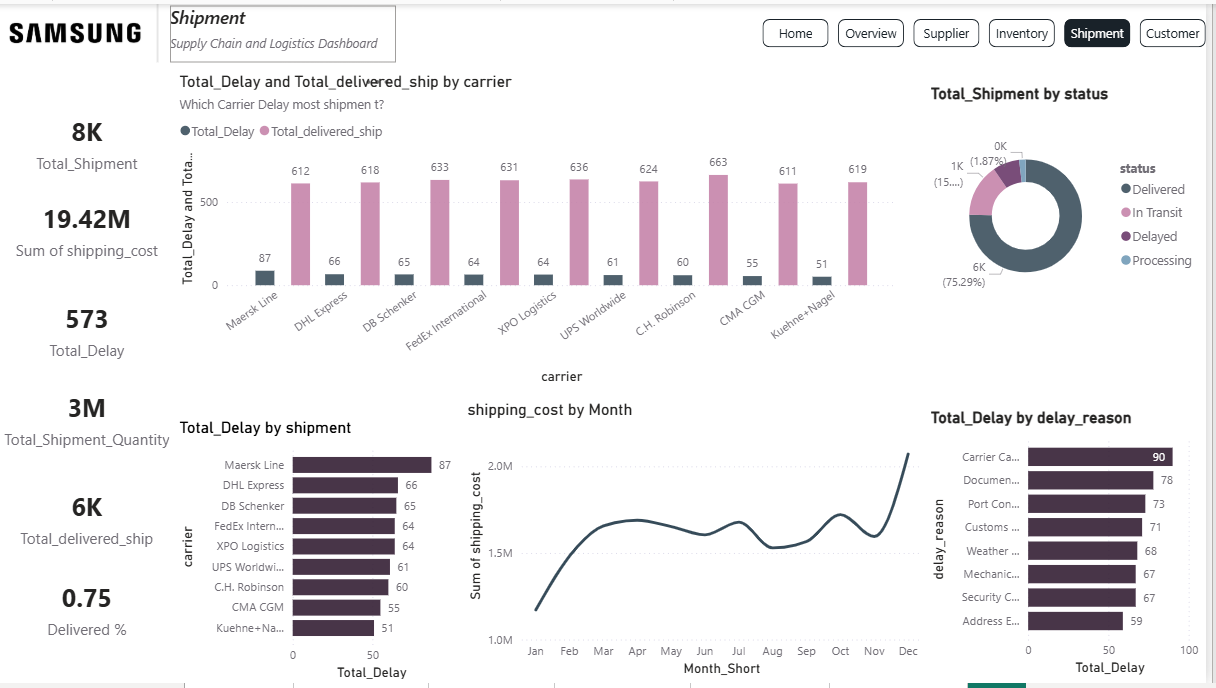

The page's visual inventory and layout, read from the dashboard file:
{"tool":"powerbi","page":{"name":"Shipment","canvas":[1280,720],"ordinal":4},"visuals":[{"type":"shape","title":"Shipment","box":[181.6,2.1,240,60.5],"z":0},{"type":"shape","box":[154.6,0,27.7,61.8],"z":1000},{"type":"image","box":[0,0,154.6,60.2],"z":2000},{"type":"card","fields":{"Values":["MeasuresTable.Total_Shipment"]},"box":[0,106.4,185.7,79.3],"z":3000},{"type":"card","fields":{"Values":["MeasuresTable.Total_Delay"]},"box":[0,304.7,185.7,79.3],"z":4000},{"type":"card","fields":{"Values":["MeasuresTable.Total_Shipment_Quantity"]},"box":[0,398.6,185.7,79.3],"z":5000},{"type":"card","fields":{"Values":["MeasuresTable.Total_delivered_ship"]},"box":[0,504,185.5,80],"z":6000},{"type":"card","fields":{"Values":["MeasuresTable.Delivered %"]},"box":[0,599,185.7,81.4],"z":7000},{"type":"card","fields":{"Values":["Sum(fact_shipment.shipping_cost)"]},"box":[0,198.4,185.6,80],"z":8000},{"type":"clusteredBarChart","title":"Total_Delay by shipment","fields":{"Category":["fact_shipment.carrier"],"Y":["MeasuresTable.Total_Delay"]},"box":[186.5,438.7,305.2,281.9],"z":9000},{"type":"clusteredColumnChart","fields":{"Y":["MeasuresTable.Total_Delay","MeasuresTable.Total_delivered_ship"],"Category":["fact_shipment.carrier"]},"box":[186.1,71.6,769.9,335.6],"z":10000},{"type":"lineChart","title":" shipping_cost by Month","fields":{"Category":["dim_date.Month_Short"],"Y":["Sum(fact_shipment.shipping_cost)"]},"box":[491.7,419.6,491.7,296.7],"z":11000},{"type":"clusteredBarChart","fields":{"Category":["fact_shipment.delay_reason"],"Y":["MeasuresTable.Total_Delay"]},"box":[983.3,428.1,296.7,288.2],"z":12000},{"type":"donutChart","fields":{"Y":["MeasuresTable.Total_Shipment"],"Category":["fact_shipment.status"]},"box":[983.3,84.8,296.7,260.7],"z":13000},{"type":"pageNavigator","box":[809.6,15.9,470.8,30.2],"z":13001}]}

Visuals, with their boxes in screenshot pixels (x1, y1, x2, y2), scaled from the page's 1280x720 canvas onto the 1216x688 screenshot:
"Shipment" shape: 173/2/401/60
shape: 147/0/173/59
image: 0/0/147/58
card - MeasuresTable.Total_Shipment: 0/102/176/177
card - MeasuresTable.Total_Delay: 0/291/176/367
card - MeasuresTable.Total_Shipment_Quantity: 0/381/176/457
card - MeasuresTable.Total_delivered_ship: 0/482/176/558
card - MeasuresTable.Delivered %: 0/572/176/650
card - Sum(fact_shipment.shipping_cost): 0/190/176/266
"Total_Delay by shipment" clusteredBarChart: 177/419/467/687
clusteredColumnChart - MeasuresTable.Total_Delay x MeasuresTable.Total_delivered_ship: 177/68/908/389
" shipping_cost by Month" lineChart: 467/401/934/684
clusteredBarChart - fact_shipment.delay_reason x MeasuresTable.Total_Delay: 934/409/1215/684
donutChart - MeasuresTable.Total_Shipment x fact_shipment.status: 934/81/1215/330
pageNavigator: 769/15/1215/44
